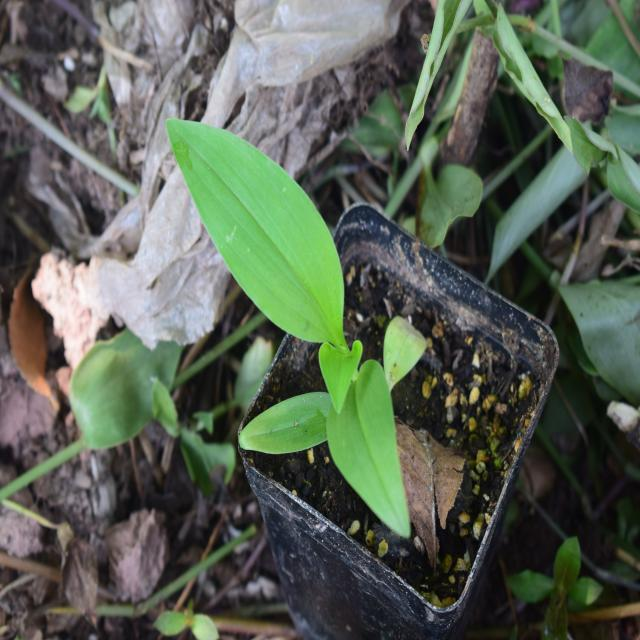Common Dayflower: (164, 119, 426, 529)
